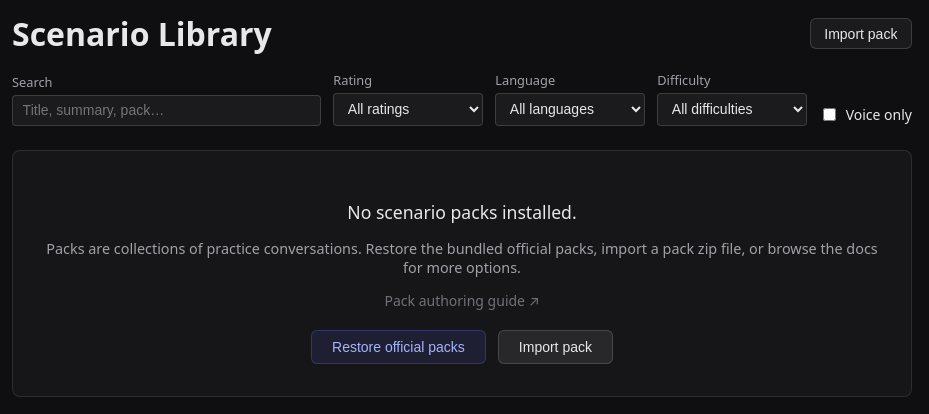
Test case: empty state › shows a retry affordance when restoring official packs fails
The image size is (929, 414).
Expected: the message with test id "empty-state" is shown, [12, 150, 912, 397]
Click the button with test id "restore-official-packs-button" at coordinates (398, 347), box [311, 330, 486, 364]
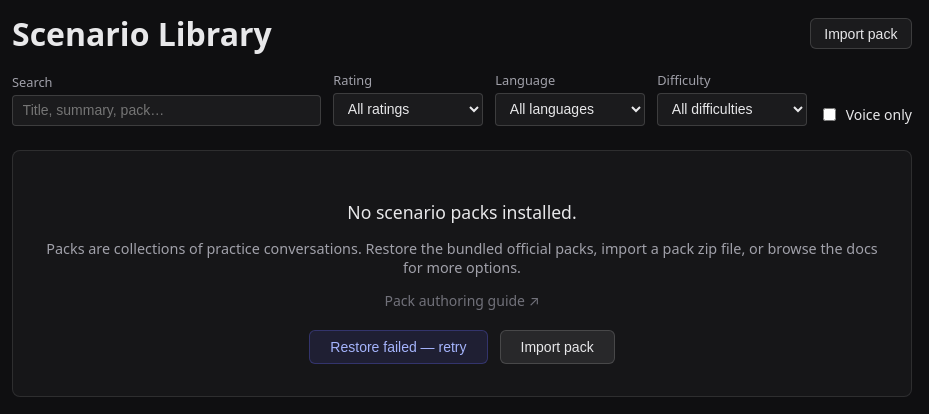
Expected: the button with test id "restore-official-packs-button" shows "retry", [309, 330, 488, 364]
